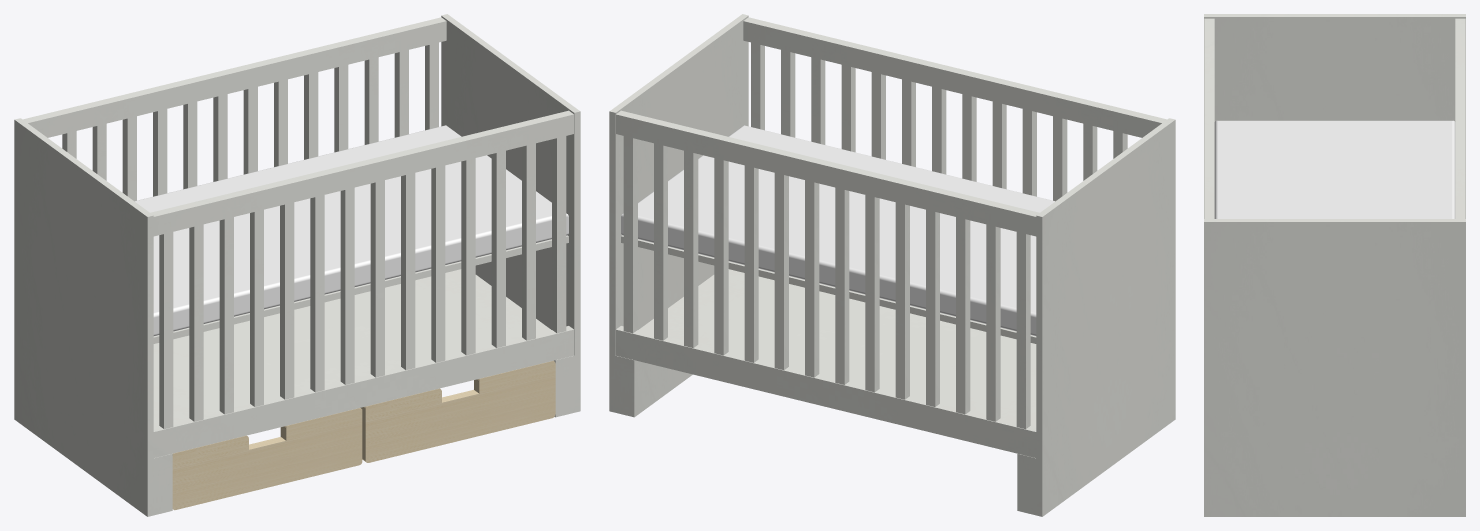
The model's file is STUVA_Baby_Bed.obj.
The picture shows the model from 3 angles, left to right: view 1: azimuth 30°, elevation 25°; view 2: azimuth 150°, elevation 25°; view 3: azimuth 270°, elevation 25°; orthographic projection.
Visible parts, largest first — view 1: Revit_008539_02, Revit_008540_41, Revit_008539_40, Revit_008539_01, Revit_008539_03, Revit_008541_38, Revit_008541_39, Revit_008539_05, Revit_008539_06, Revit_008539_16, Revit_008539_26, Revit_008539_28 (+26 smaller); view 2: Revit_008539_02, Revit_008540_41, Revit_008539_40, Revit_008539_01, Revit_008539_04, Revit_008539_06, Revit_008539_05, Revit_008539_17, Revit_008539_27, Revit_008539_29, Revit_008539_35, Revit_008539_09 (+24 smaller); view 3: Revit_008539_01, Revit_008539_02, Revit_008540_41, Revit_008539_05, Revit_008539_06.
Boxes of the visible parts, x1,y1,x2,y2 form: Revit_008539_02: (14,118,153,516); Revit_008540_41: (135,125,568,335); Revit_008539_40: (153,269,550,426); Revit_008539_01: (441,14,580,412); Revit_008539_03: (153,326,573,457); Revit_008541_38: (360,360,555,462); Revit_008541_39: (172,408,362,510); Revit_008539_05: (150,110,573,236); Revit_008539_06: (23,17,446,137); Revit_008539_16: (280,202,294,399); Revit_008539_26: (431,165,445,362); Revit_008539_28: (461,158,475,355); Revit_008539_02: (1036,118,1175,516); Revit_008540_41: (621,125,1054,335); Revit_008539_40: (639,269,1036,426); Revit_008539_01: (609,14,748,412); Revit_008539_04: (616,326,1036,457); Revit_008539_06: (616,110,1039,236); Revit_008539_05: (743,17,1166,137); Revit_008539_17: (895,202,909,399); Revit_008539_27: (744,165,758,362); Revit_008539_29: (714,158,728,355); Revit_008539_35: (623,136,637,333); Revit_008539_09: (1016,232,1030,429); Revit_008539_01: (1204,219,1465,516); Revit_008539_02: (1204,14,1465,218); Revit_008540_41: (1214,120,1455,218); Revit_008539_05: (1204,18,1214,218); Revit_008539_06: (1455,18,1465,218).
Bounding box in the file's own units: 1390 × 920 × 740.
